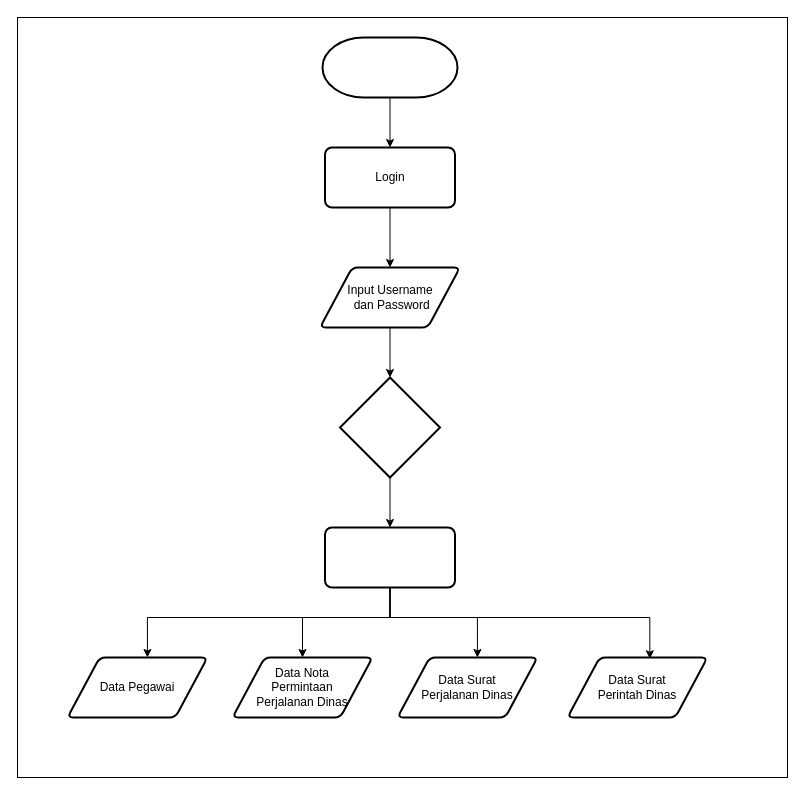
This 805x795 diagram has some shape labels left out. The centre of each missing label's shape, as x and y in pixels:
Dashboard: (x=390, y=557)
Mulai: (x=389, y=67)
Verifikas user: (x=389, y=427)
